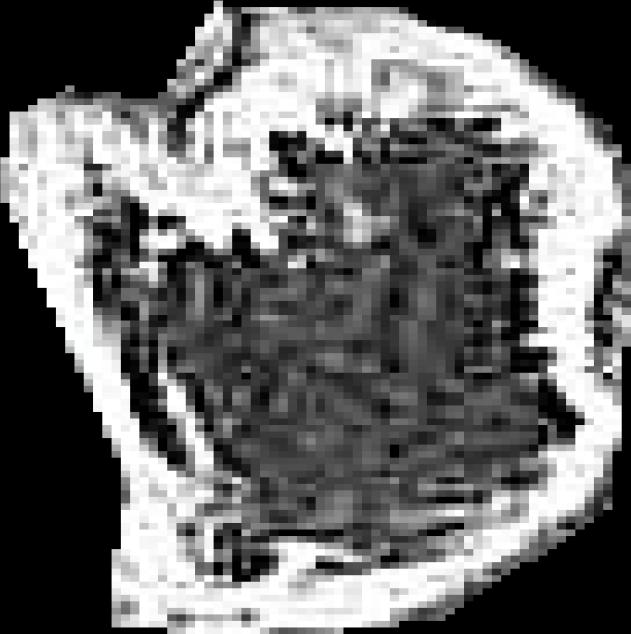tumor_moderate_chance: (0, 1, 631, 634)
